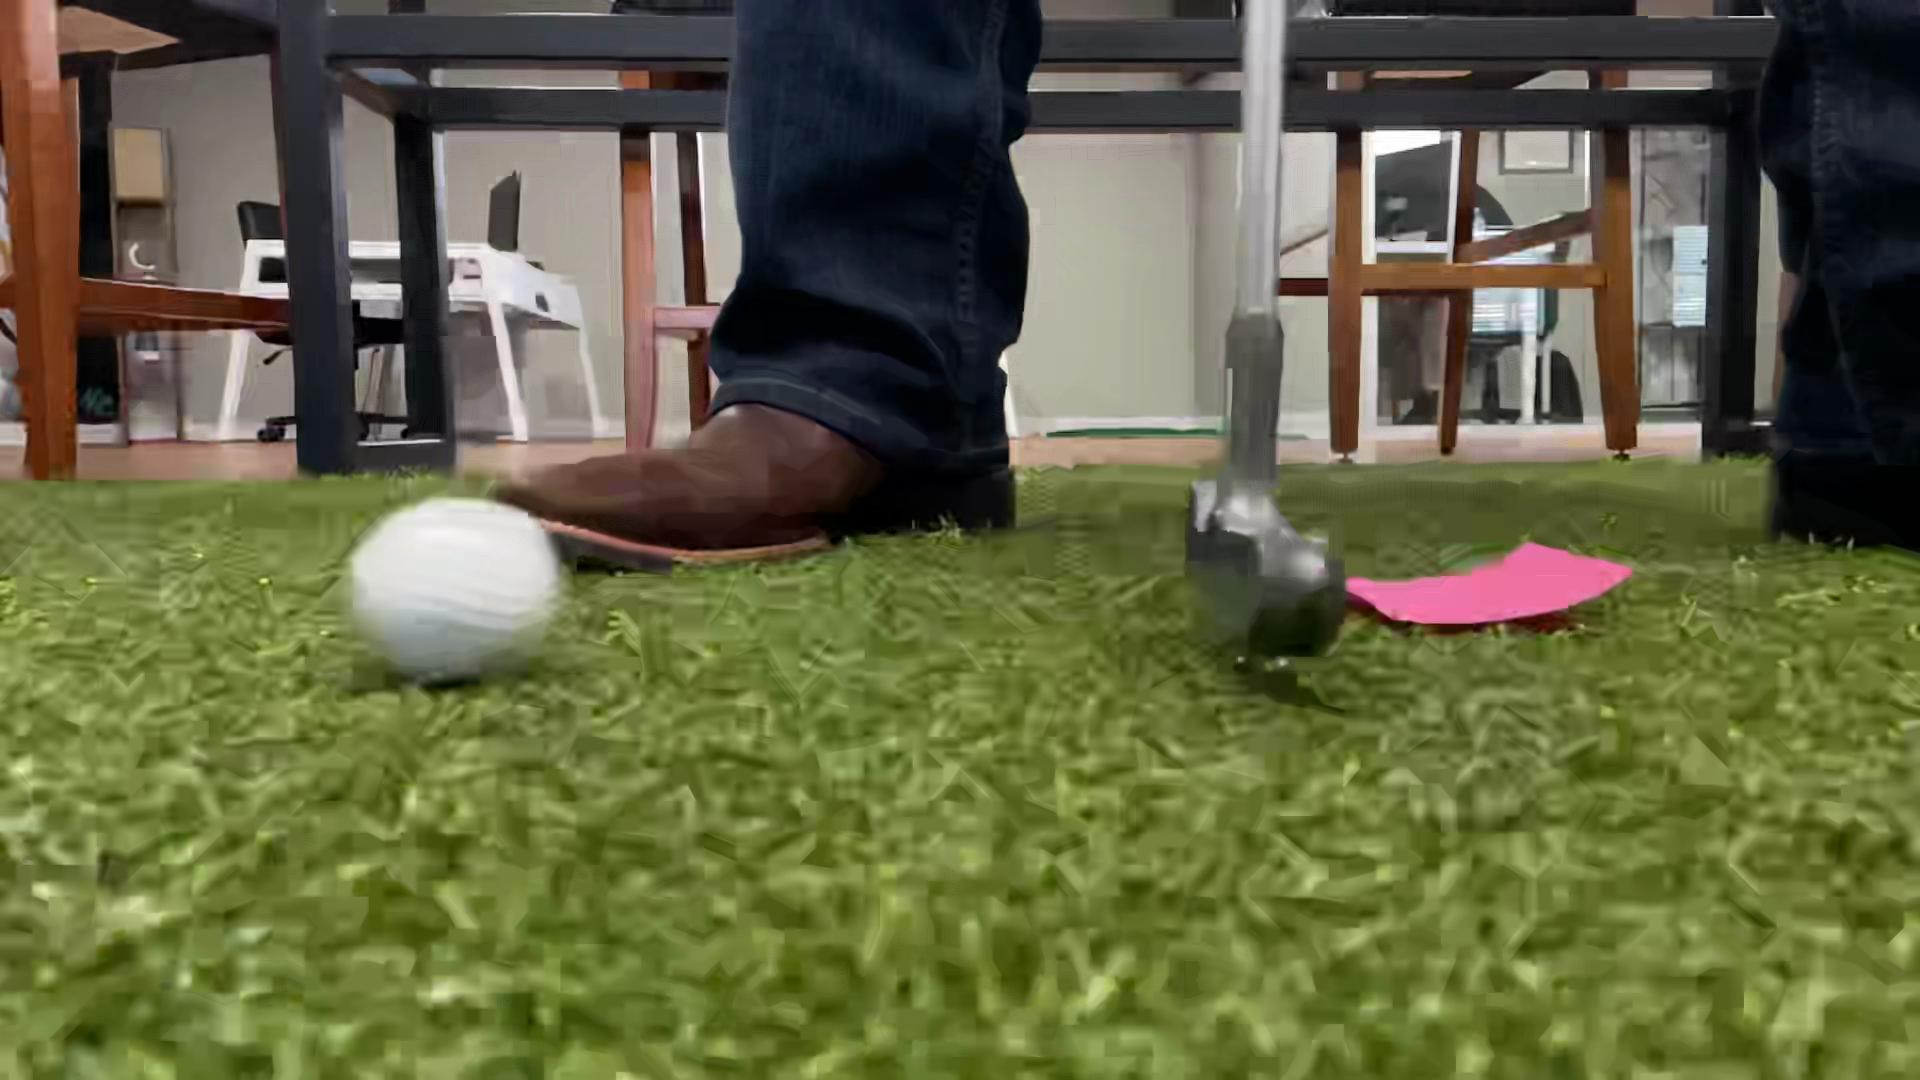golfball: (346, 498, 563, 683)
